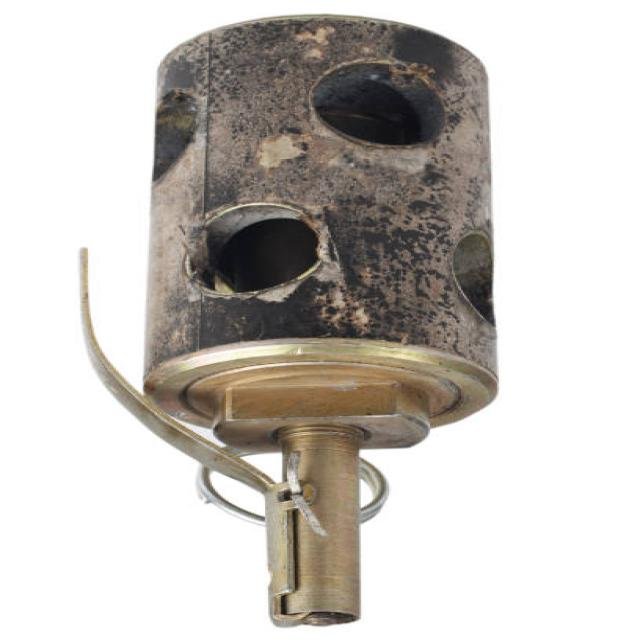grenade: (62, 11, 526, 639)
